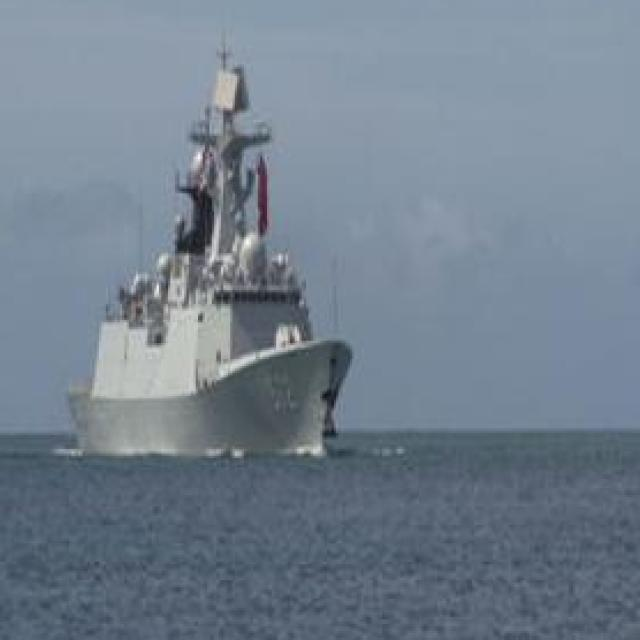navalvessels: (25, 22, 369, 444)
